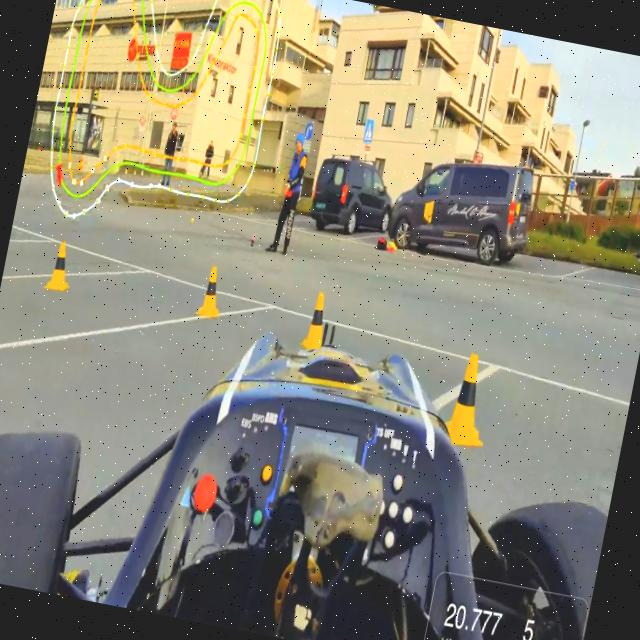yellow_cone: (443, 350, 492, 442), (295, 281, 337, 356), (180, 263, 227, 320), (46, 240, 77, 299)
